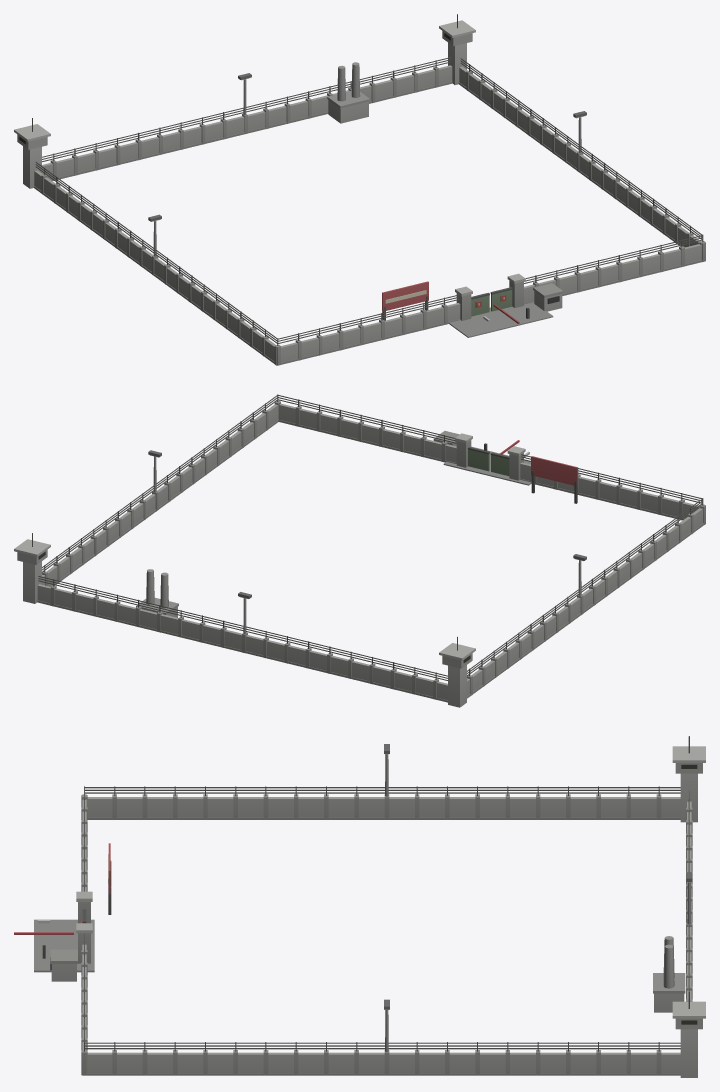
File: m_factory_99f70dcb.glb
3 views of the same model, one above another, from view 1: azimuth 30°, elevation 25°; view 2: azimuth 150°, elevation 25°; view 3: azimuth 270°, elevation 25° (orthographic). The views are drawn at different scales.
Visible parts, largest first — view 1: mesh; view 2: mesh; view 3: mesh.
Boxes of the visible parts, x1,y1,x2,y2 form: mesh: (14, 14, 705, 365); mesh: (14, 394, 705, 707); mesh: (14, 736, 705, 1077).
Size of the model in its own units: 126 by 18 by 137.
